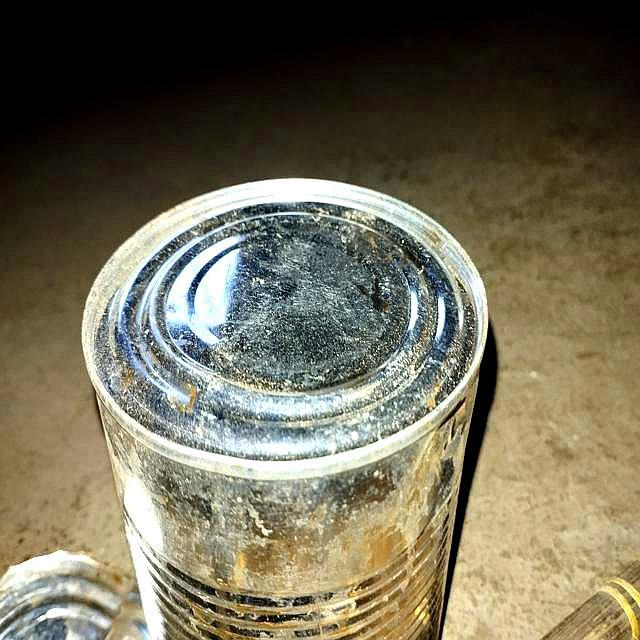Non-biodegradable: (80, 175, 492, 638)
